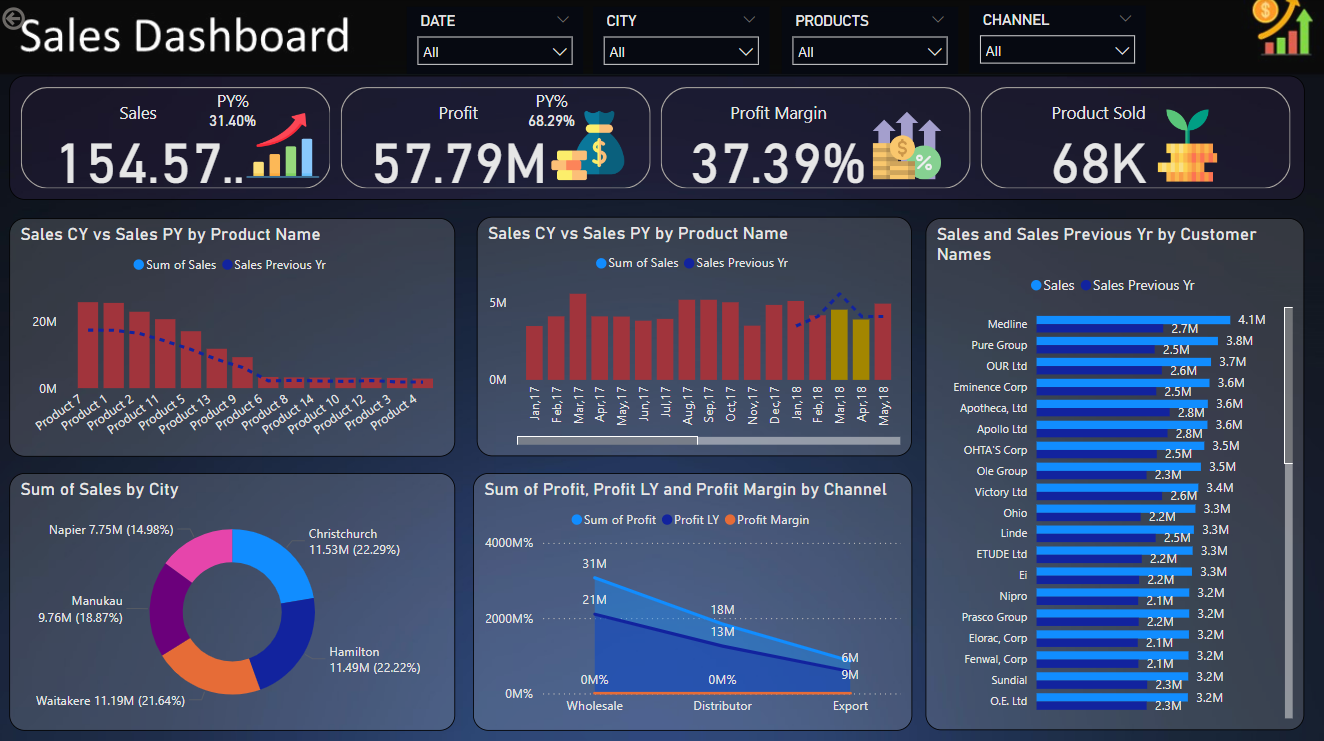

What the dashboard file says about the page in this screenshot:
{"tool":"powerbi","page":{"name":"Page 1","canvas":[1280,720],"ordinal":0},"visuals":[{"type":"slicer","title":"DATE","fields":{"Values":["DateTable.Year","DateTable.Month Short Name Plus Year"]},"box":[394.5,9,170,65],"z":0},{"type":"actionButton","box":[0,0,30.2,39.8],"z":1000},{"type":"slicer","title":"DATE","fields":{"Values":["Regions_Table.City"]},"box":[574.5,9,170,65],"z":2000},{"type":"slicer","title":"DATE","fields":{"Values":["Products_Data.Product Name"]},"box":[756.2,8.8,170,65],"z":3000},{"type":"slicer","title":"DATE","fields":{"Values":["Sales_Data.Channel"]},"box":[937.5,7.5,170,65],"z":4000},{"type":"lineStackedColumnComboChart","title":"Sales CY vs Sales PY by Product Name","fields":{"Category":["Products_Data.Product Name"],"Y":["Sum(Sales_Data.Sales)"],"Y2":["Measure table.Sales Previous Yr"]},"box":[11.4,212.9,430,230],"z":5000},{"type":"lineStackedColumnComboChart","title":"Sales CY vs Sales PY by Product Name","fields":{"Y":["Sum(Sales_Data.Sales)"],"Y2":["Measure table.Sales Previous Yr"],"Category":["DateTable.Month Short Name Plus Year"]},"box":[462.5,211.2,420,231.2],"z":6000},{"type":"donutChart","fields":{"Y":["Sum(Sales_Data.Sales)"],"Category":["Regions_Table.City"]},"box":[11.4,458.6,430,248.6],"z":7000},{"type":"areaChart","fields":{"Category":["Sales_Data.Channel"],"Y":["Sum(Sales_Data.Profit)","Measure table.Profit LY","Measure table.Profit Margin"]},"box":[458.6,458.6,424.3,248.6],"z":8000},{"type":"clusteredBarChart","fields":{"Y":["Measure table.Sales","Measure table.Sales Previous Yr"],"Category":["Customer_Data.Customer Names"]},"box":[895.7,212.9,365.7,494.3],"z":9000},{"type":"cardVisual","fields":{"Data":["Measure table.Sales","Measure table.Profit","Measure table.Profit Margin","Measure table.Product Sold"]},"box":[11.4,74.3,1250,120],"z":10000},{"type":"card","title":"PY%","fields":{"Values":["Measure table.Sales vs LY%"]},"box":[185.7,88.6,81.4,45.7],"z":11000},{"type":"card","title":"PY%","fields":{"Values":["Measure table.Profit vs LY %"]},"box":[492.9,88.6,81.4,45.7],"z":12000}]}

Visuals, with their boxes in screenshot pixels (x1, y1, x2, y2), scaled from the page's 1280x720 canvas onto the 1324x741 screenshot:
"DATE" slicer: rect(408, 9, 584, 76)
actionButton: rect(0, 0, 31, 41)
"DATE" slicer: rect(594, 9, 770, 76)
"DATE" slicer: rect(782, 9, 958, 76)
"DATE" slicer: rect(970, 8, 1146, 75)
"Sales CY vs Sales PY by Product Name" lineStackedColumnComboChart: rect(12, 219, 457, 456)
"Sales CY vs Sales PY by Product Name" lineStackedColumnComboChart: rect(478, 217, 913, 455)
donutChart - Sum(Sales_Data.Sales) x Regions_Table.City: rect(12, 472, 457, 728)
areaChart - Sales_Data.Channel x Sum(Sales_Data.Profit): rect(474, 472, 913, 728)
clusteredBarChart - Measure table.Sales x Measure table.Sales Previous Yr: rect(926, 219, 1305, 728)
cardVisual - Measure table.Sales x Measure table.Profit: rect(12, 76, 1305, 200)
"PY%" card: rect(192, 91, 276, 138)
"PY%" card: rect(510, 91, 594, 138)
